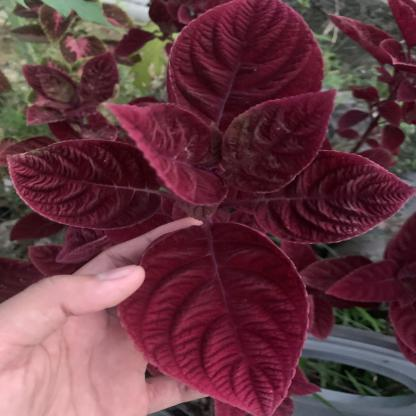Bunga Coleus: (71, 52, 375, 304)
